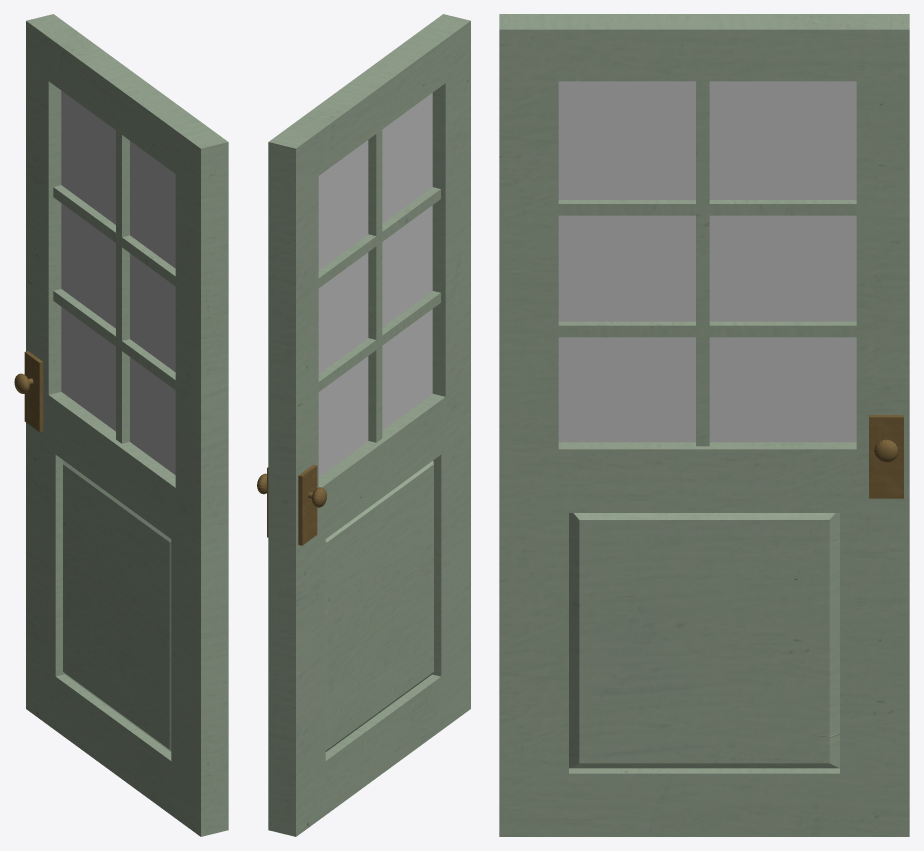
Rendered from SM_WD6_DOOR.fbx.
3 renders of one model, left to right at view 1: azimuth 30°, elevation 25°; view 2: azimuth 150°, elevation 25°; view 3: azimuth 270°, elevation 25°, orthographic. The views are drawn at different scales.
Visible parts, largest first — view 1: SM_WD6_DOOR; view 2: SM_WD6_DOOR; view 3: SM_WD6_DOOR.
Boxes of the visible parts, <box> form: SM_WD6_DOOR: <box>14,14,228,836</box>; SM_WD6_DOOR: <box>257,14,470,836</box>; SM_WD6_DOOR: <box>499,14,909,836</box>.
Bounding box in the file's own units: 21.93 × 100 × 217.
Materials: 3 (2 with a texture image).
